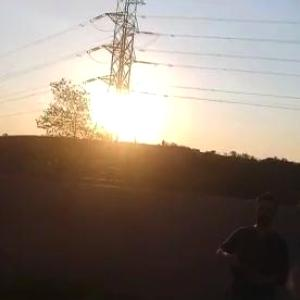follow: (211, 185, 297, 299)
